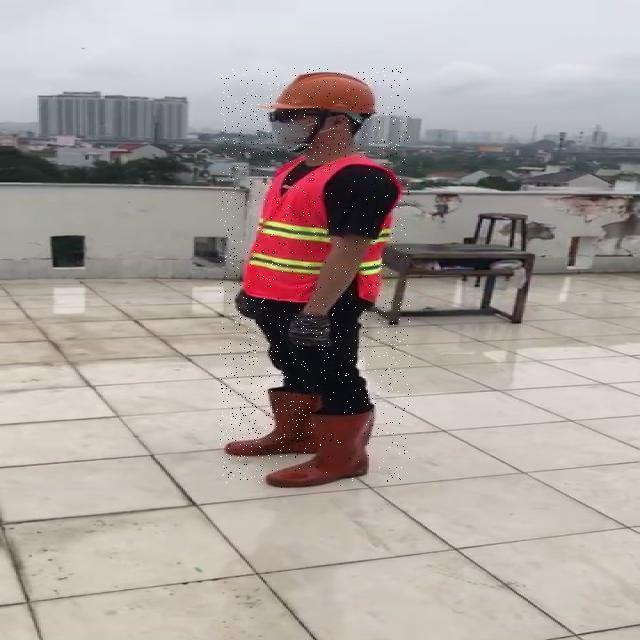gloves: (289, 311, 331, 352)
goggles: (264, 108, 308, 125)
helmet: (270, 70, 383, 113)
safety_vest: (240, 155, 407, 300)
